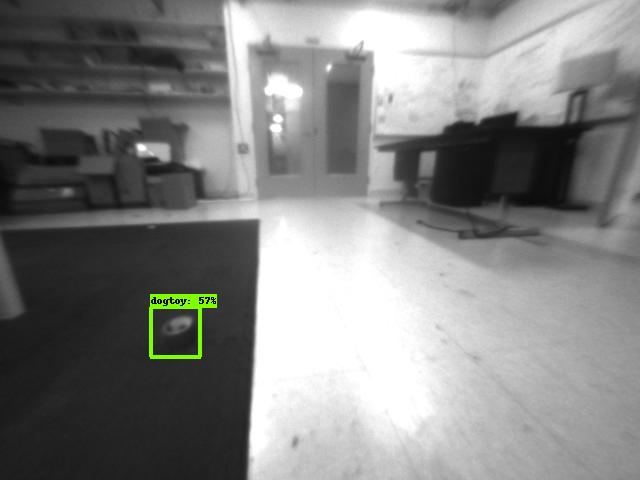dogtoy: (143, 308, 210, 355)
